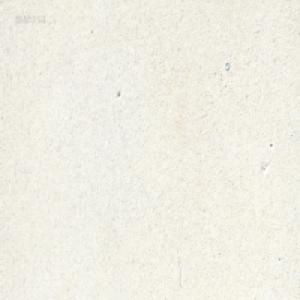Washer: (224, 61, 230, 72)
